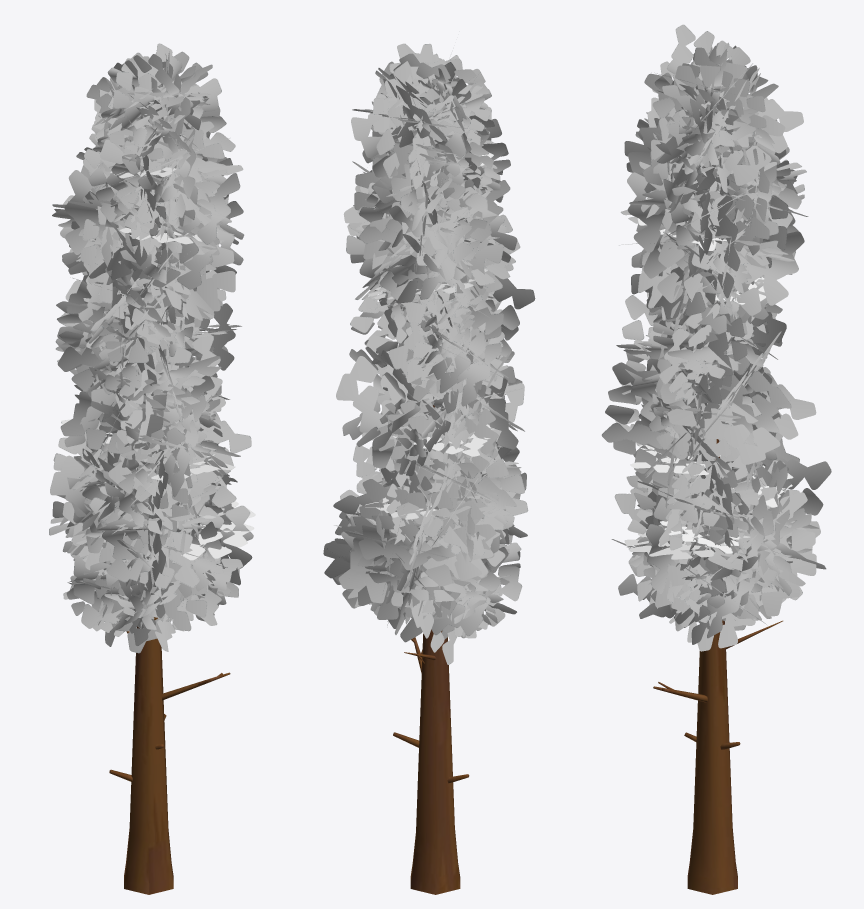
File: STColumnar4.glb
The picture shows the model from 3 angles, left to right: view 1: azimuth 30°, elevation 25°; view 2: azimuth 150°, elevation 25°; view 3: azimuth 270°, elevation 25°; orthographic projection.
Parts seen in each view (by area): view 1: Leaf.127; view 2: Leaf.127; view 3: Leaf.127.
Boxes of the visible parts, <box> form: Leaf.127: <box>49,43,255,894</box>; Leaf.127: <box>323,43,535,894</box>; Leaf.127: <box>601,24,831,894</box>.
Bounding box in the file's own units: 3.95 × 13.93 × 3.88.
2 materials, 2 textured.
